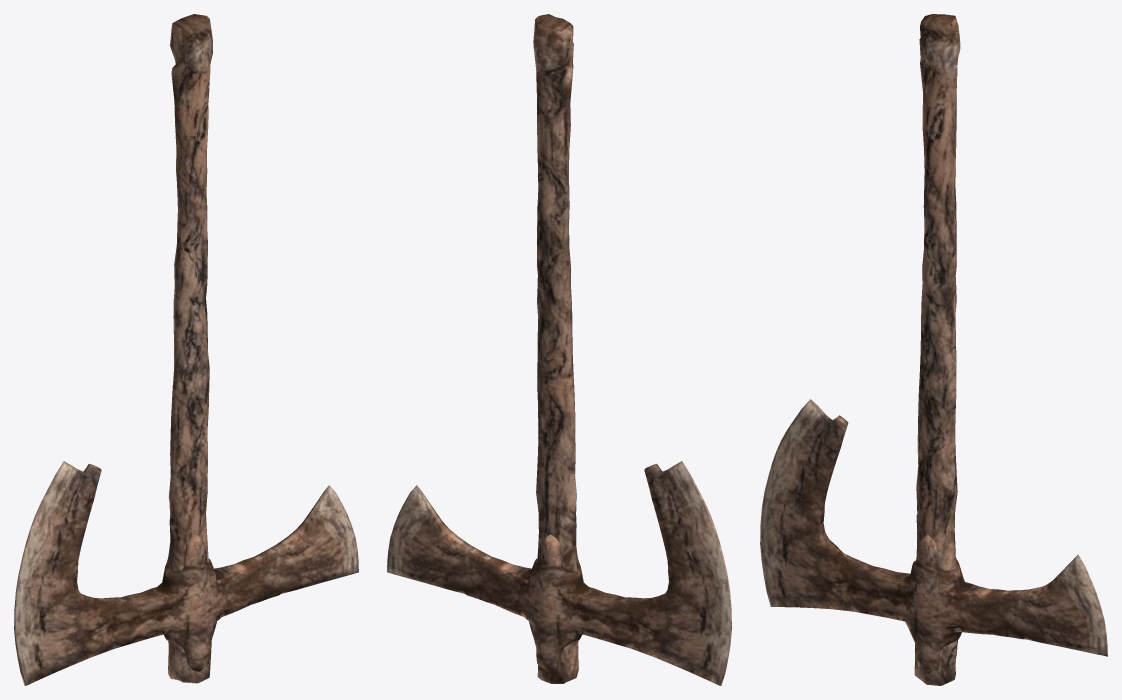
Rendered from weapon-wp_a_1552.glb.
3 renders of one model, left to right at view 1: azimuth 30°, elevation 25°; view 2: azimuth 150°, elevation 25°; view 3: azimuth 330°, elevation 25°, orthographic.
Visible parts, largest first — view 1: wp_a_1552_mesh; view 2: wp_a_1552_mesh; view 3: wp_a_1552_mesh.
Boxes of the visible parts, x1=… form: wp_a_1552_mesh: x1=14, y1=14, x2=358, y2=685; wp_a_1552_mesh: x1=387, y1=14, x2=731, y2=685; wp_a_1552_mesh: x1=760, y1=14, x2=1107, y2=685.
Size of the model in its own units: 0.5087 by 0.9291 by 0.0602.
1 material, 1 textured.
